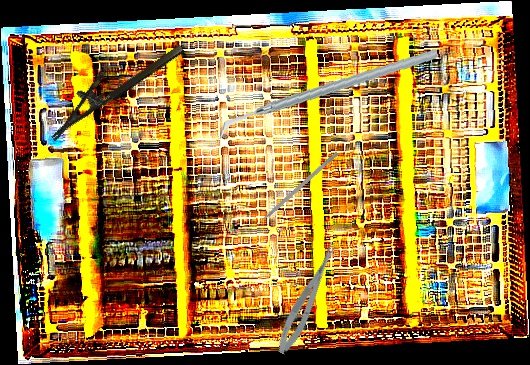Chopper: (217, 31, 438, 157), (247, 147, 339, 231)
Micro Scissor: (270, 239, 346, 358)
Needle Holder: (36, 26, 186, 142)
